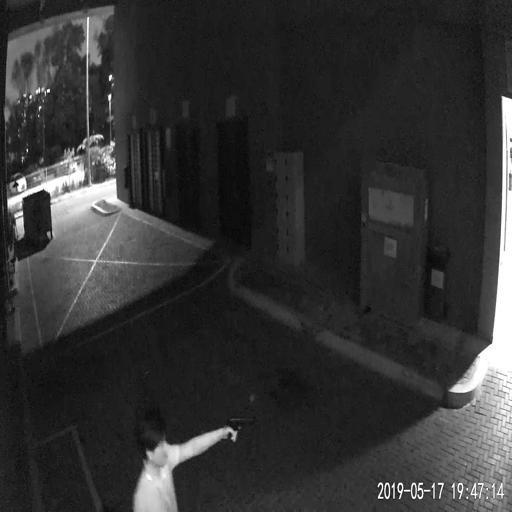Handgun: (227, 413, 253, 441)
